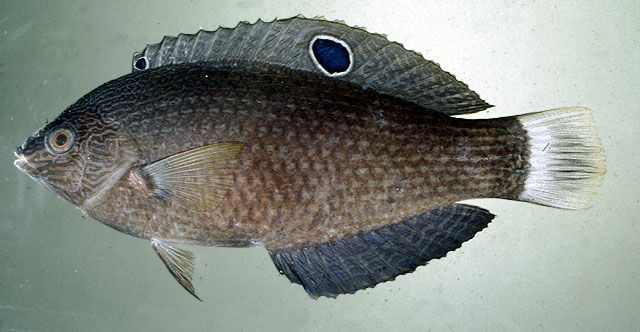fish: (13, 12, 607, 303)
